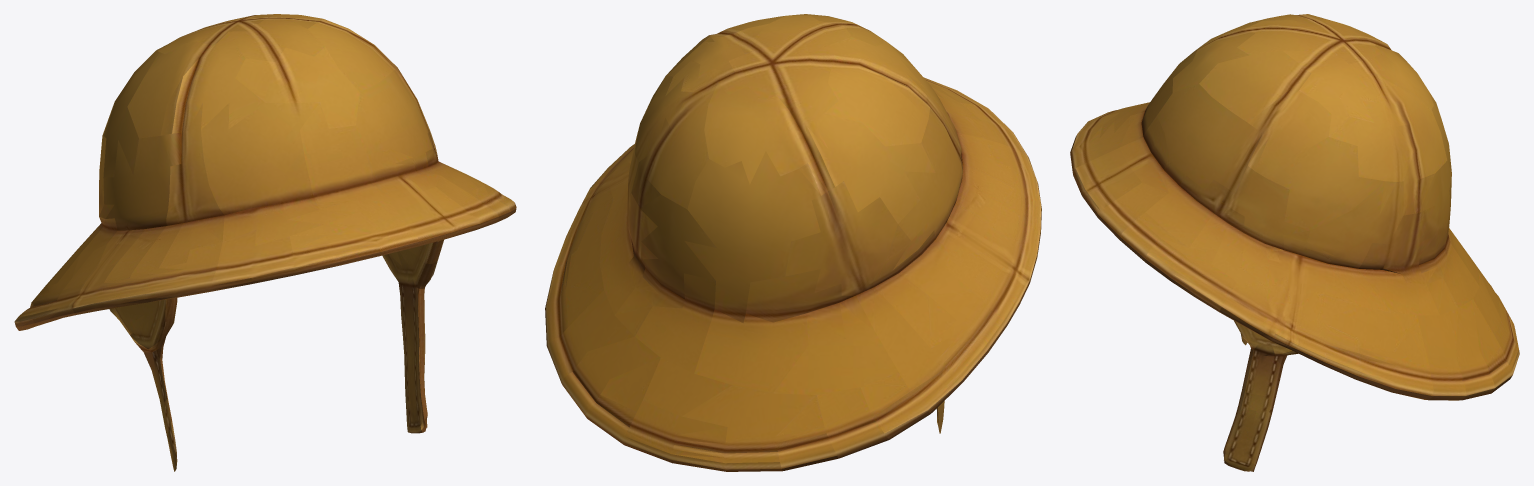
The model's file is npc_acc_sou_wester.glb.
3 views of the same model, side by side, from view 1: azimuth 30°, elevation 25°; view 2: azimuth 150°, elevation 25°; view 3: azimuth 270°, elevation 25° (orthographic). The views are drawn at different scales.
Visible parts, largest first — view 1: output_unwrapped; view 2: output_unwrapped; view 3: output_unwrapped.
Boxes of the visible parts, x1=… form: output_unwrapped: x1=14, y1=14, x2=516, y2=471; output_unwrapped: x1=545, y1=14, x2=1041, y2=471; output_unwrapped: x1=1070, y1=14, x2=1519, y2=471.
Size of the model in its own units: 0.4 by 0.362 by 0.3832.
Materials: 1 (1 with a texture image).
